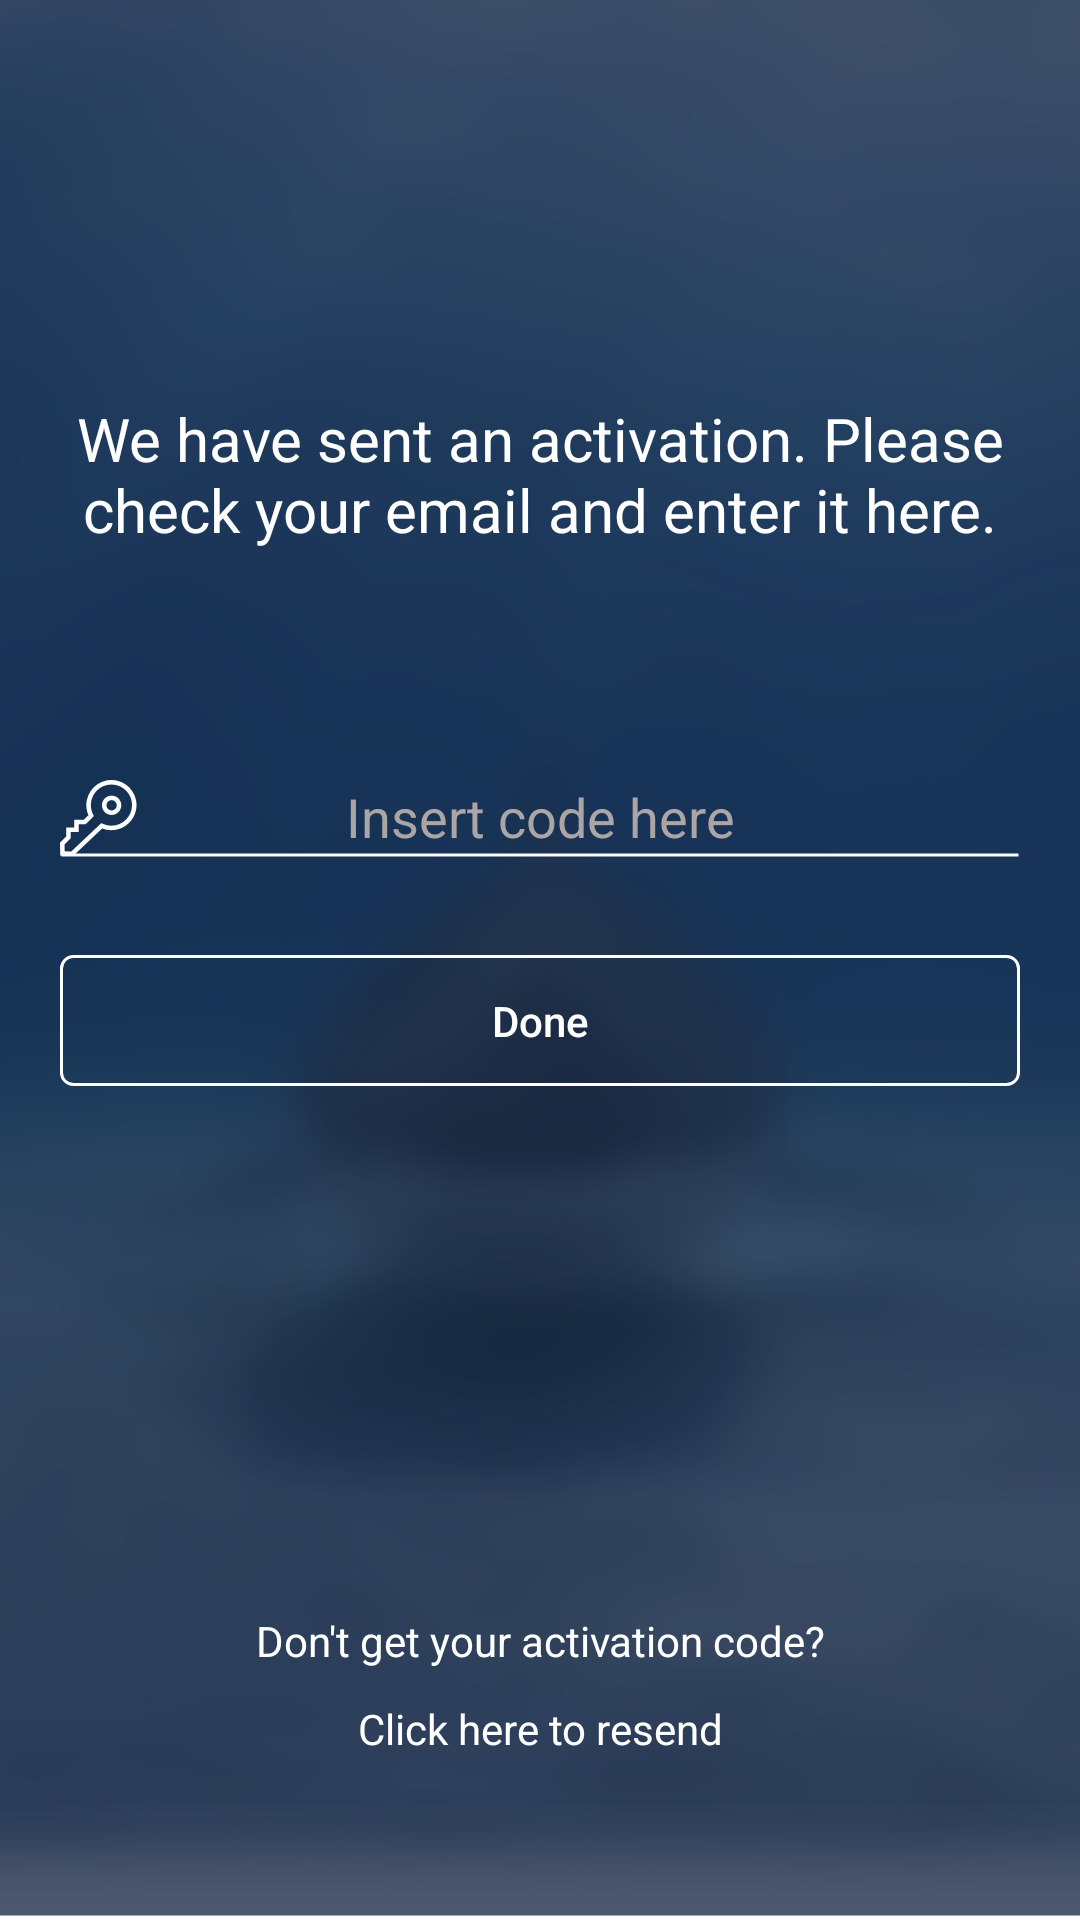

Icons on this 1080 × 1920 Android screen, each with the point to tap as (x=x, y=y):
key: (x=98, y=818)
